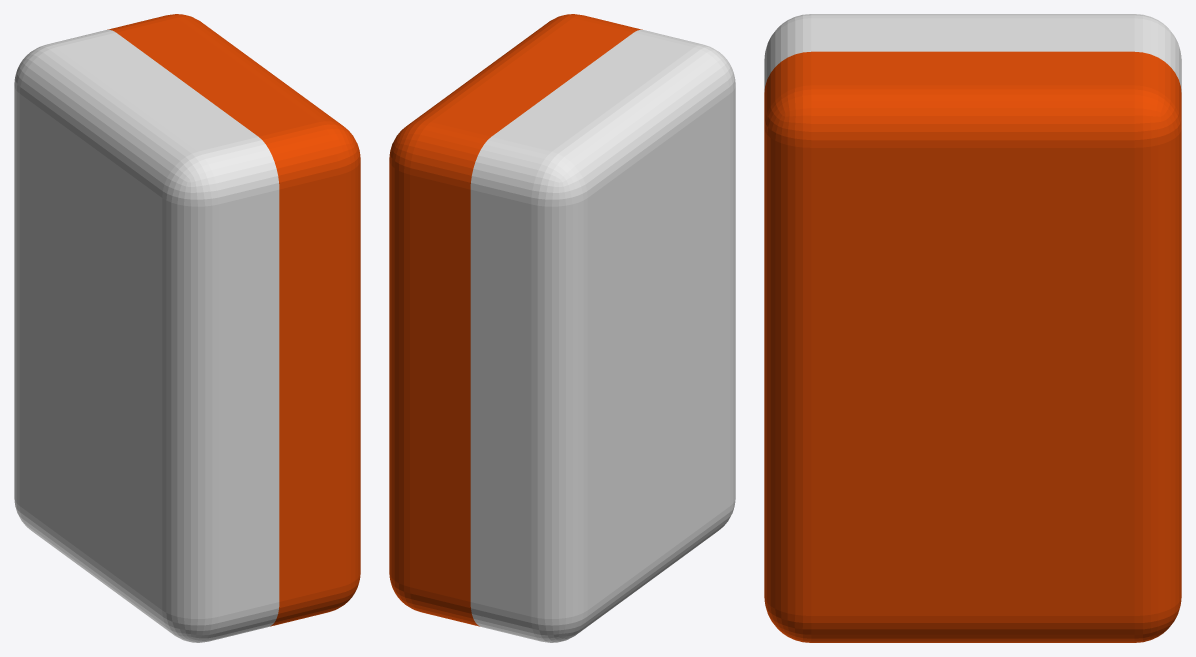
The model's file is new_tile.glb.
The picture shows the model from 3 angles, left to right: view 1: azimuth 30°, elevation 25°; view 2: azimuth 150°, elevation 25°; view 3: azimuth 270°, elevation 25°; orthographic projection. The views are drawn at different scales.
Visible parts, largest first — view 1: Cube; view 2: Cube; view 3: Cube.
Part boxes in pixels (<box>): Cube: <box>14,14,360,642</box>; Cube: <box>389,14,735,642</box>; Cube: <box>764,14,1181,642</box>.
Size of the model in its own units: 1.21 by 2.93 by 2.
